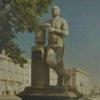Statue: (30, 3, 74, 86)
